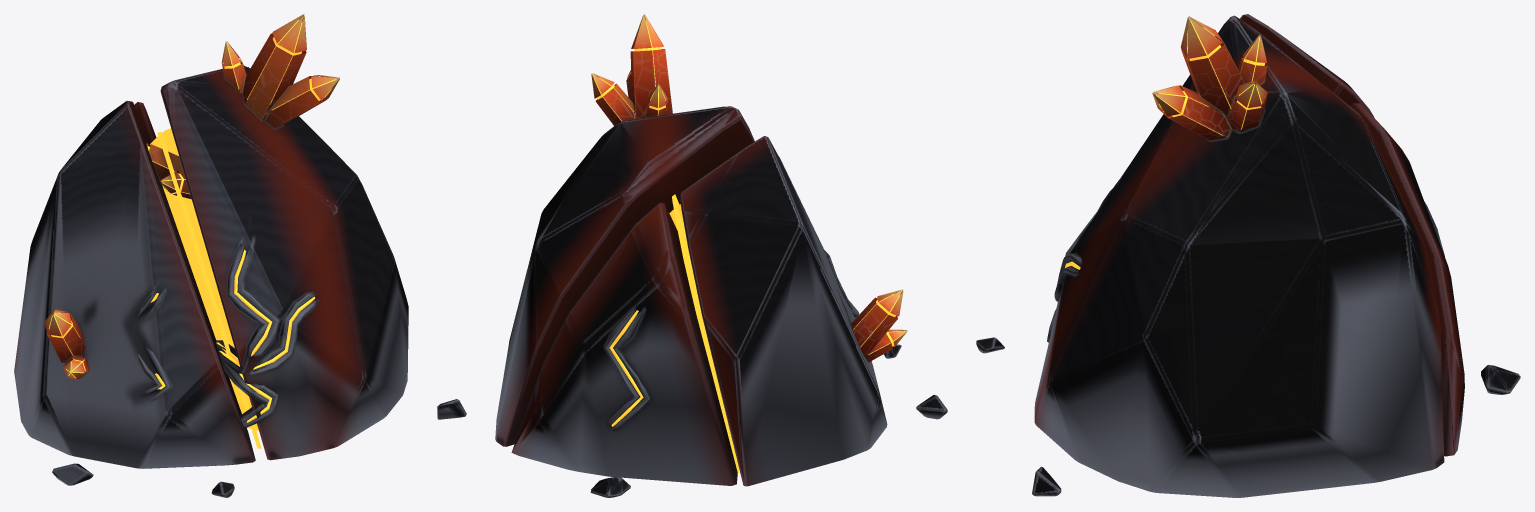
File: ember_ore.fbx
The picture shows the model from 3 angles, left to right: view 1: azimuth 30°, elevation 25°; view 2: azimuth 150°, elevation 25°; view 3: azimuth 270°, elevation 25°; orthographic projection. The views are drawn at different scales.
Parts seen in each view (by area): view 1: EmberOre_Body, EmberOre_GLOW; view 2: EmberOre_Body, EmberOre_GLOW; view 3: EmberOre_Body, EmberOre_GLOW.
Part boxes in pixels (left/top/right/bottom): EmberOre_Body: left=14, top=14, right=466, bottom=497; EmberOre_GLOW: left=48, top=20, right=336, bottom=448; EmberOre_Body: left=495, top=14, right=947, bottom=497; EmberOre_GLOW: left=593, top=20, right=904, bottom=472; EmberOre_Body: left=976, top=14, right=1520, bottom=497; EmberOre_GLOW: left=1065, top=20, right=1264, bottom=269.
Bounding box in the file's own units: 4.79 × 4.41 × 5.09.
Materials: 2 (1 with a texture image).
